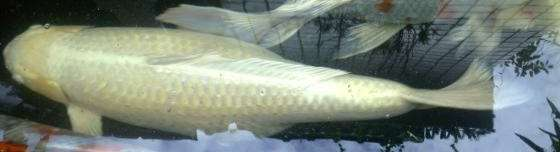white: (2, 20, 496, 142)
